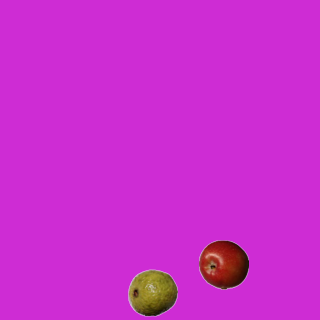Apple Braeburn: (198, 239, 248, 289)
Guava: (127, 267, 177, 317)
